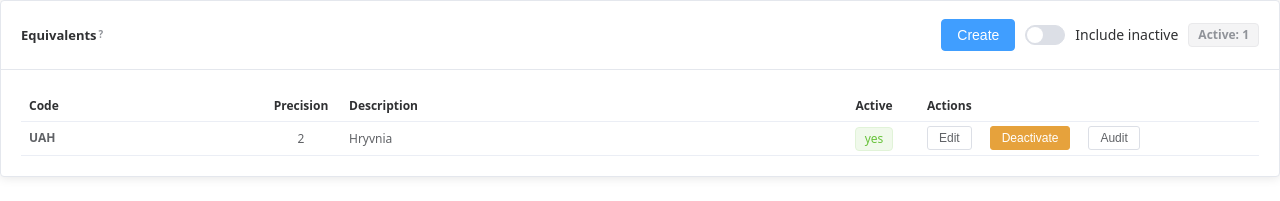
Test: Equivalents: the usage line follows the equivalent › is read again after a change of the equivalent, not kept for the life of the page
Hover over the cell "UAH" at point(141, 139), box x1=21 y1=122 x2=261 y2=156
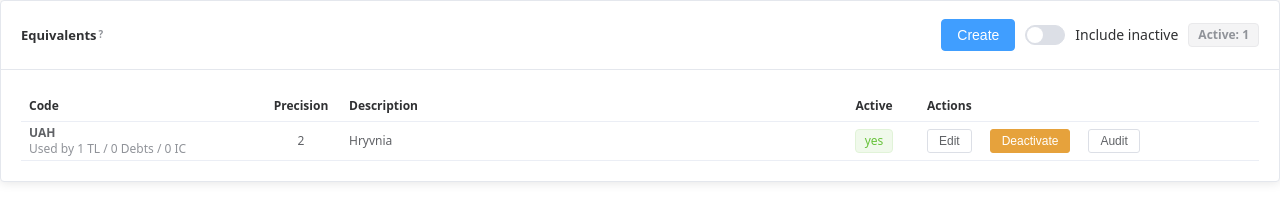
Now the text with class "code__sub" shows "1", box x1=29 y1=140 x2=186 y2=156
Click the button "Deactivate" at point(1030, 141), box x1=990 y1=129 x2=1070 y2=153
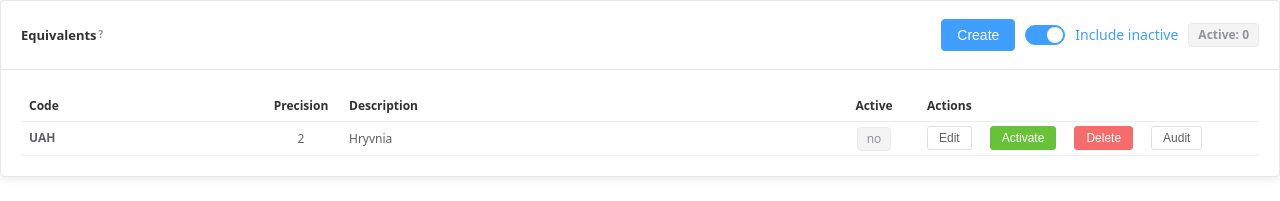
Hover over the cell "UAH" at point(141, 139), box x1=21 y1=122 x2=261 y2=156
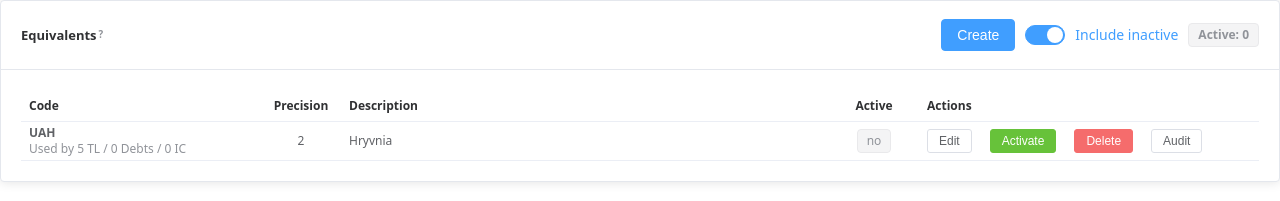
Now the text with class "code__sub" shows "5", box x1=29 y1=140 x2=186 y2=156
